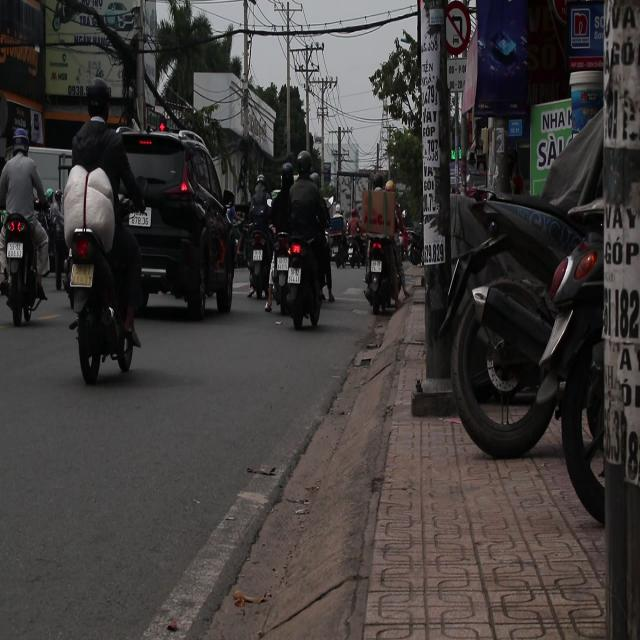car: (118, 131, 235, 321)
motorbike: (64, 168, 141, 382), (0, 207, 48, 327), (270, 227, 323, 330), (362, 231, 407, 315), (240, 214, 270, 320), (327, 223, 347, 271)
